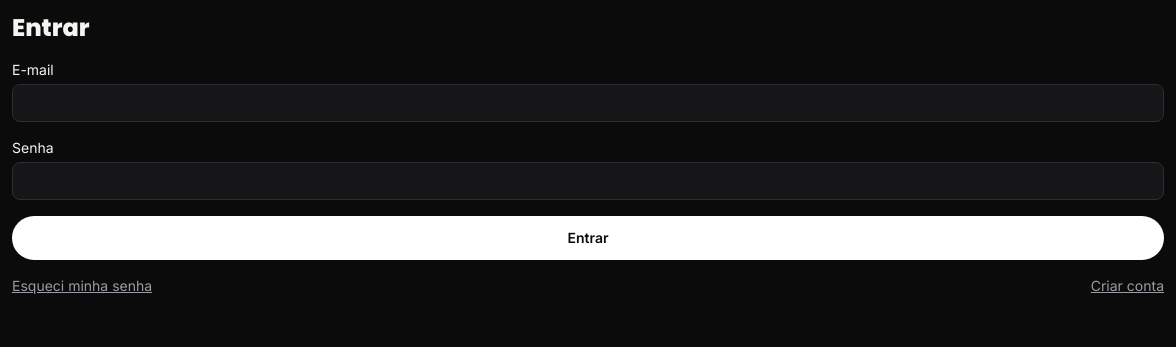
Test: LoginForm › 401 invalid-credentials mostra mensagem genérica
This screenshot has width=1176, height=347.
Type "a@b.c" into the field labelled "E-mail".
click(588, 103); type("a@b.c")  # box [12,84,1164,122]
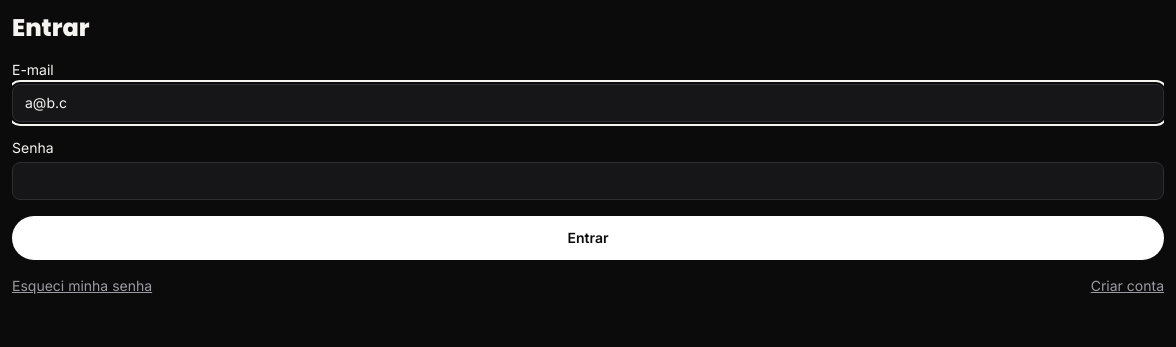
Type "errada" into the password field labelled "Senha".
click(588, 181); type("errada")  # box [12,162,1164,200]
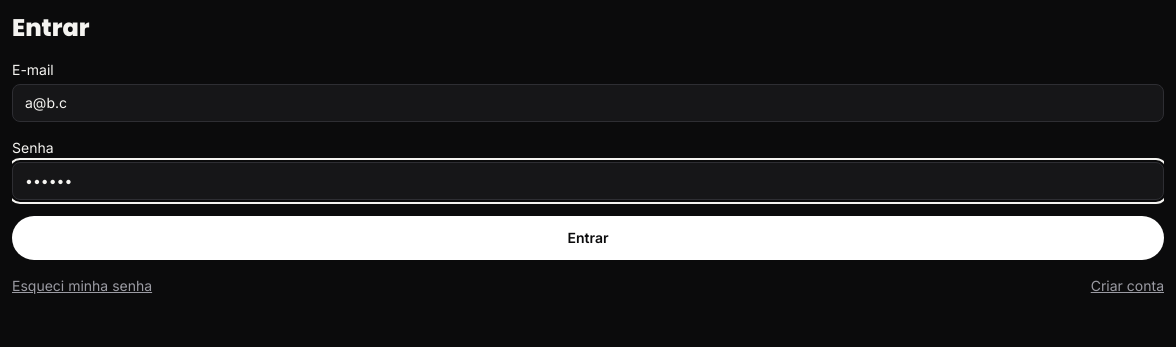
Click the button "Entrar".
click(588, 238)  # box [12,216,1164,260]
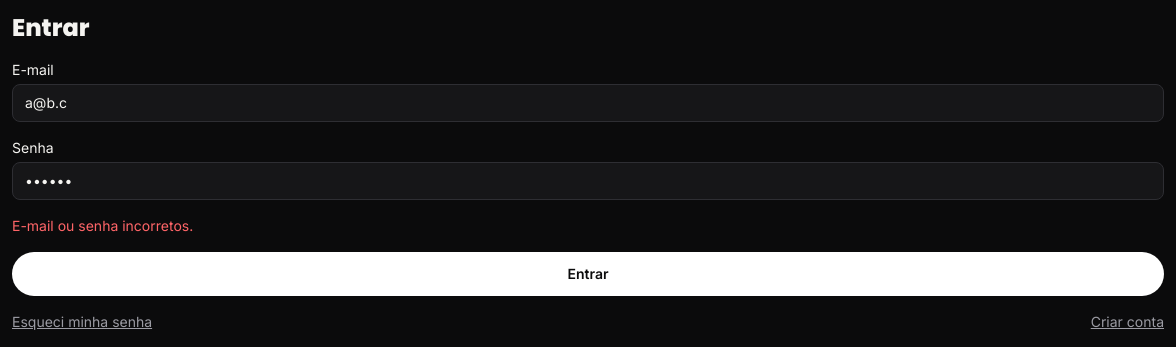
Check: the message shows "incorretos", box [12,217,193,234]
